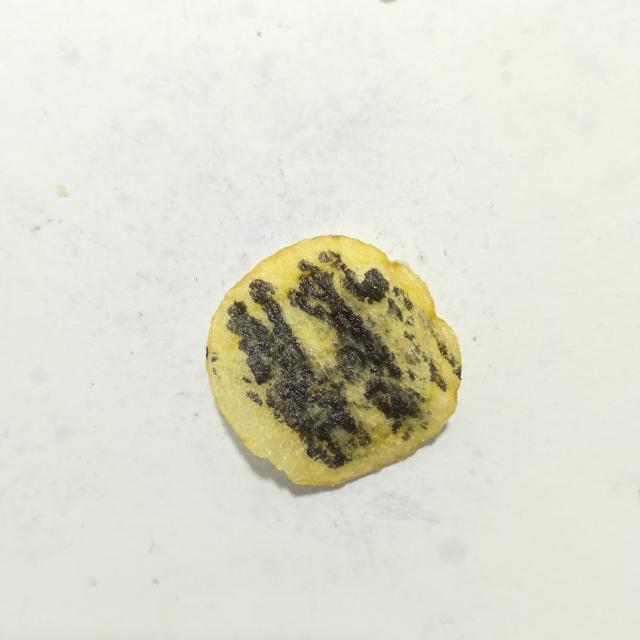chip: (206, 236, 461, 485)
damaged: (227, 260, 425, 468), (319, 251, 414, 326), (405, 343, 446, 391), (429, 324, 461, 377), (392, 286, 414, 311), (246, 390, 262, 405), (407, 369, 415, 381), (243, 377, 249, 382)
